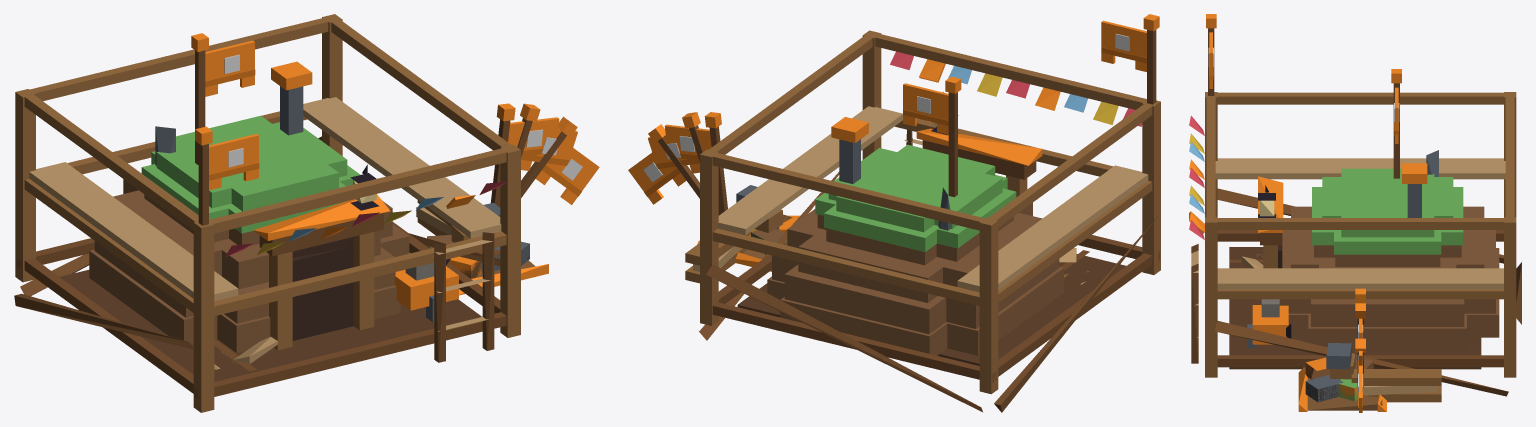
Rendered from bumblebee-research.glb.
3 renders of one model, left to right at view 1: azimuth 30°, elevation 25°; view 2: azimuth 150°, elevation 25°; view 3: azimuth 270°, elevation 25°, orthographic. The views are drawn at different scales.
Visible parts, largest first — view 1: scaffold-mesh, built-mesh, dismantle-75-mesh, dismantle-50-mesh, scaffold-banner, banner, dismantle-25-banner, flag-pole, dismantle-75-banner, dismantle-50-banner, scaffold-flag-pole, dismantle-25-mesh (+3 smaller); view 2: scaffold-mesh, built-mesh, dismantle-75-mesh, dismantle-50-mesh, scaffold-banner, banner, dismantle-25-banner, flag-pole, dismantle-75-banner, scaffold-flag-pole, dismantle-50-banner, dismantle-75-flag-pole (+2 smaller); view 3: scaffold-mesh, built-mesh, dismantle-75-mesh, dismantle-50-mesh, dismantle-25-mesh, flag-pole, scaffold-flag-pole.
Boxes of the visible parts, <box> form: scaffold-mesh: <box>14,14,520,412</box>; built-mesh: <box>89,61,458,352</box>; dismantle-75-mesh: <box>60,151,548,381</box>; dismantle-50-mesh: <box>98,235,543,371</box>; scaffold-banner: <box>209,134,259,190</box>; banner: <box>205,40,255,96</box>; dismantle-25-banner: <box>535,141,599,204</box>; flag-pole: <box>191,33,208,164</box>; dismantle-75-banner: <box>508,117,559,157</box>; dismantle-50-banner: <box>521,126,577,175</box>; scaffold-flag-pole: <box>195,126,212,225</box>; dismantle-25-mesh: <box>185,202,548,363</box>; scaffold-mesh: <box>685,30,1160,412</box>; built-mesh: <box>767,92,1063,355</box>; dismantle-75-mesh: <box>697,140,1125,363</box>; dismantle-50-mesh: <box>735,214,1089,332</box>; scaffold-banner: <box>1101,20,1146,71</box>; banner: <box>903,83,948,134</box>; dismantle-25-banner: <box>628,146,686,204</box>; flag-pole: <box>945,76,961,197</box>; dismantle-75-banner: <box>664,124,711,161</box>; scaffold-flag-pole: <box>1143,14,1159,104</box>; dismantle-50-banner: <box>648,133,699,177</box>; dismantle-75-flag-pole: <box>704,112,727,214</box>; scaffold-mesh: <box>1189,92,1521,402</box>; built-mesh: <box>1247,150,1499,351</box>; dismantle-75-mesh: <box>1229,187,1484,411</box>; dismantle-50-mesh: <box>1229,230,1495,411</box>; dismantle-25-mesh: <box>1241,256,1384,411</box>; flag-pole: <box>1391,69,1401,178</box>; scaffold-flag-pole: <box>1206,14,1216,95</box>.
Bounding box in the file's own units: 2.67 × 1.55 × 1.85.
